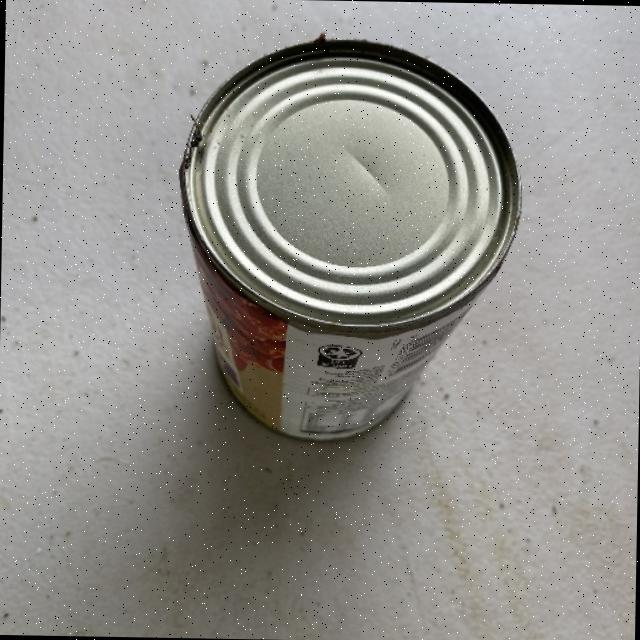metal: (172, 29, 524, 444)
